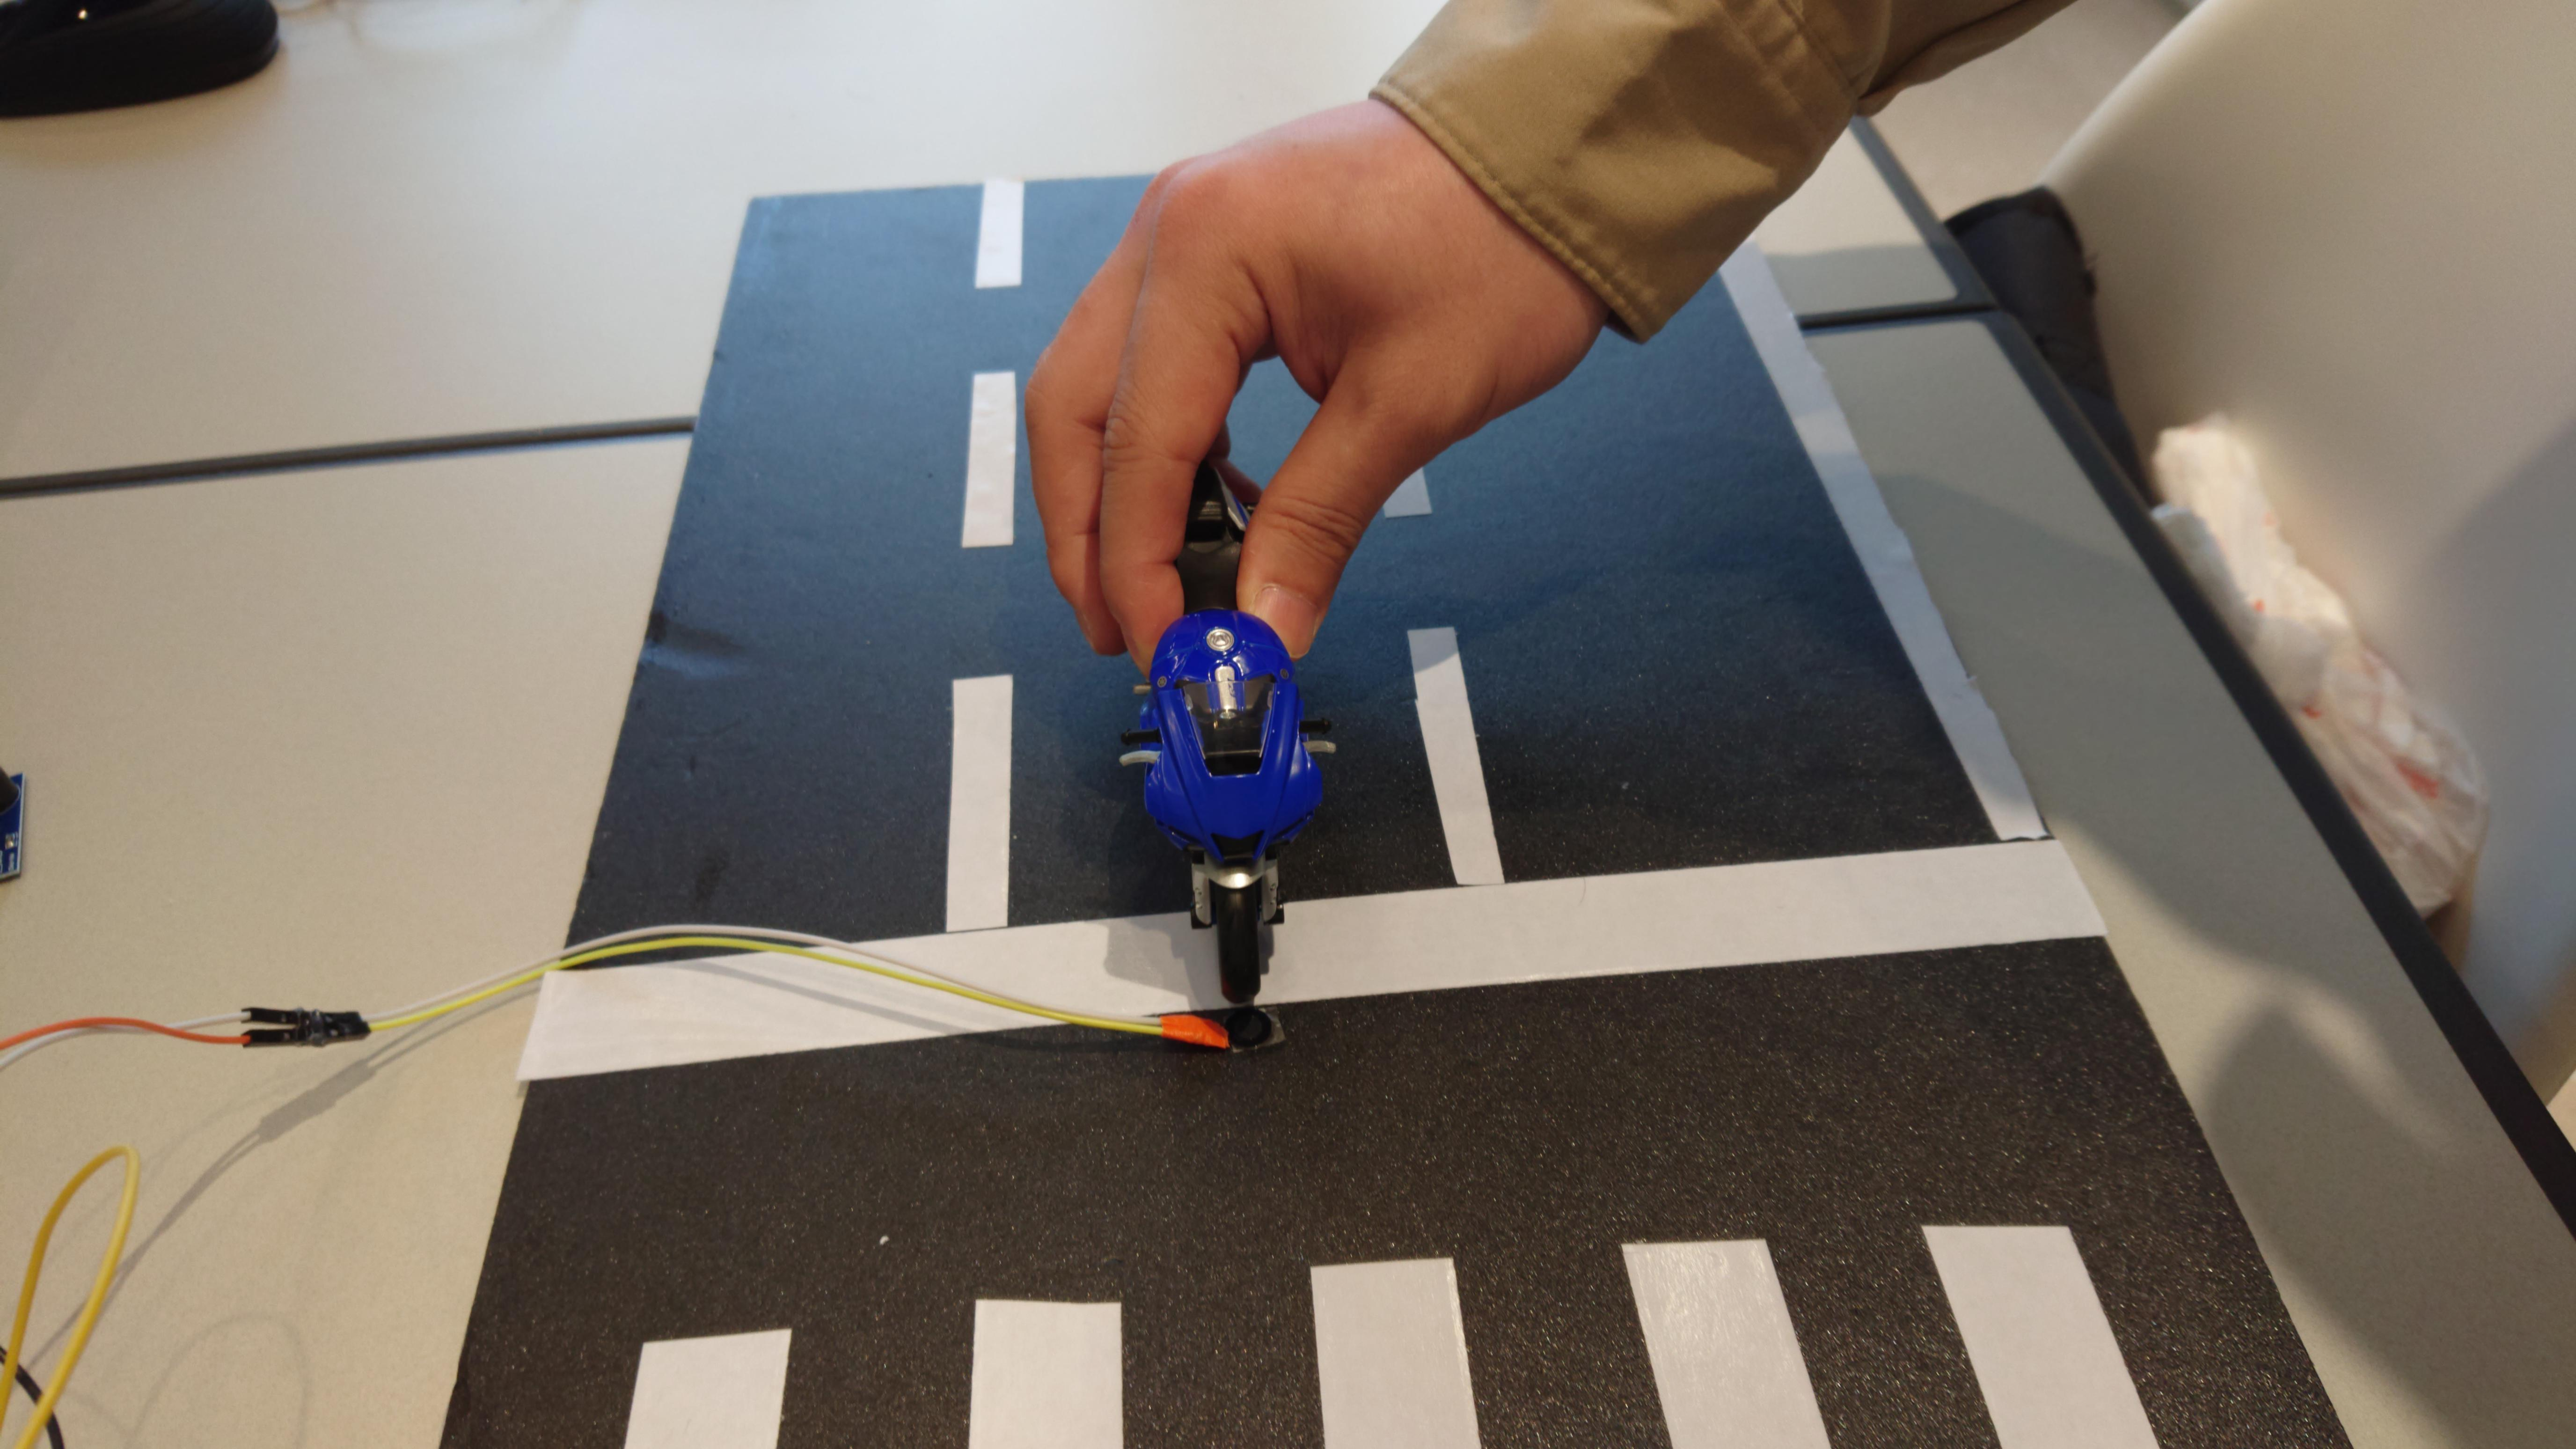Motorcycle: (1102, 442, 1355, 1028)
